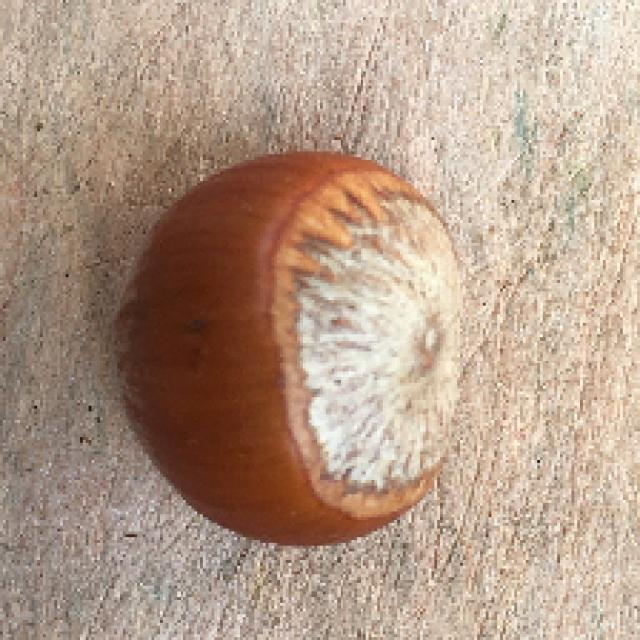qualityHazelnut: (109, 154, 483, 545)
